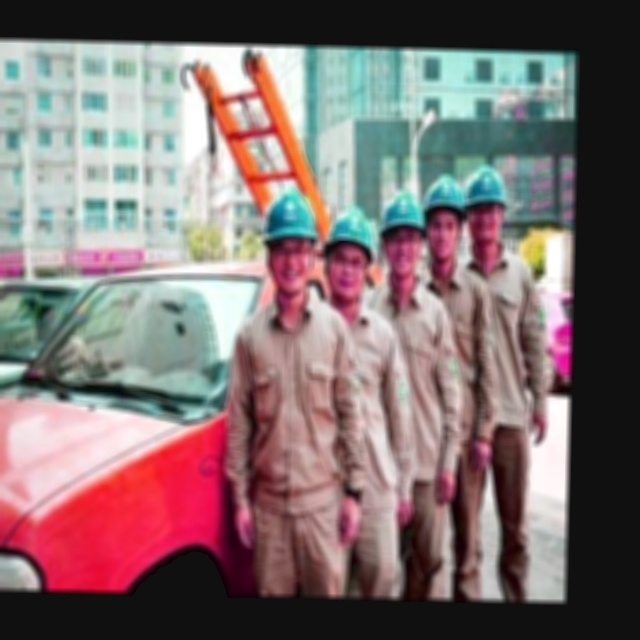Con_Casco: (259, 189, 322, 293), (322, 209, 375, 306)
Sin_Chaleco: (227, 303, 358, 504)
